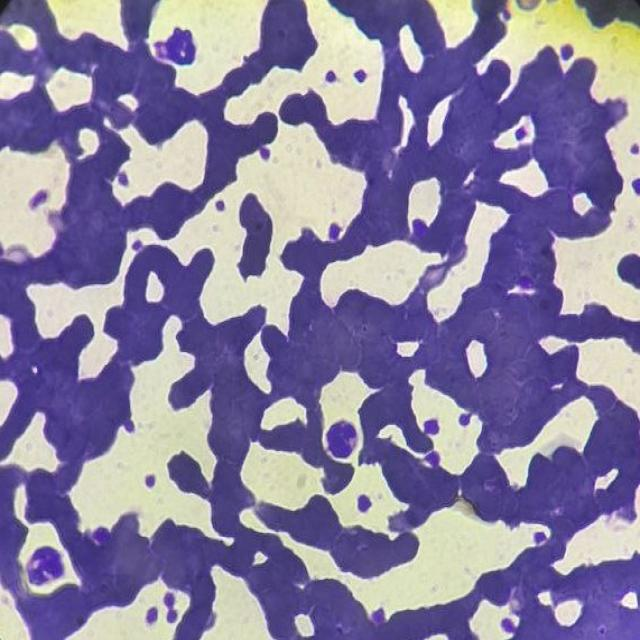Neutrofilo: (20, 544, 69, 592), (152, 22, 201, 69), (323, 421, 362, 460)
